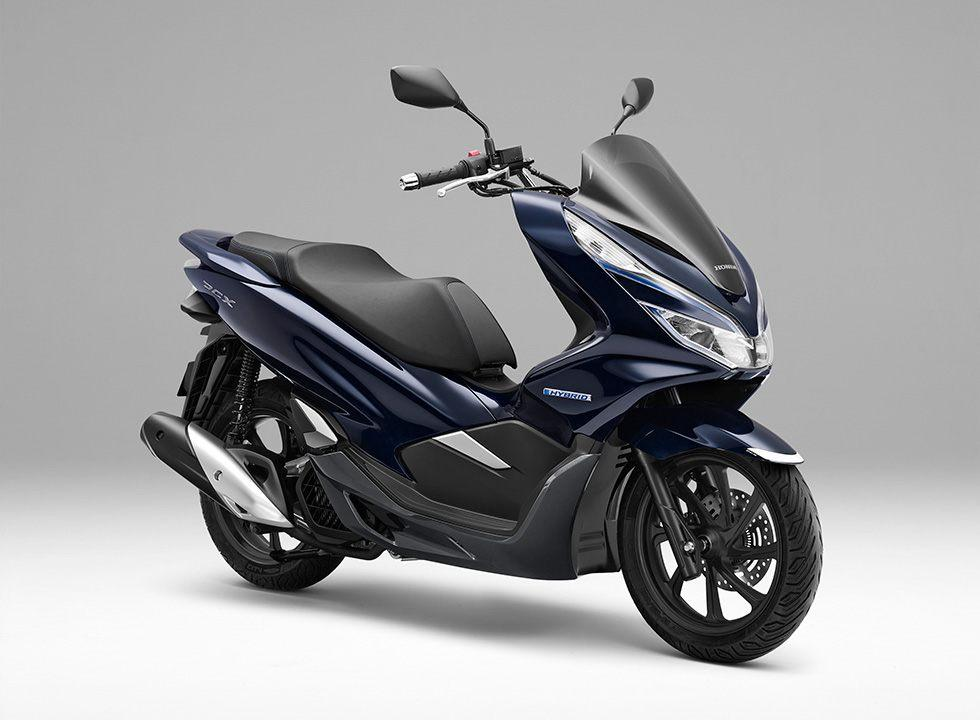motorbike: (140, 66, 823, 663)
